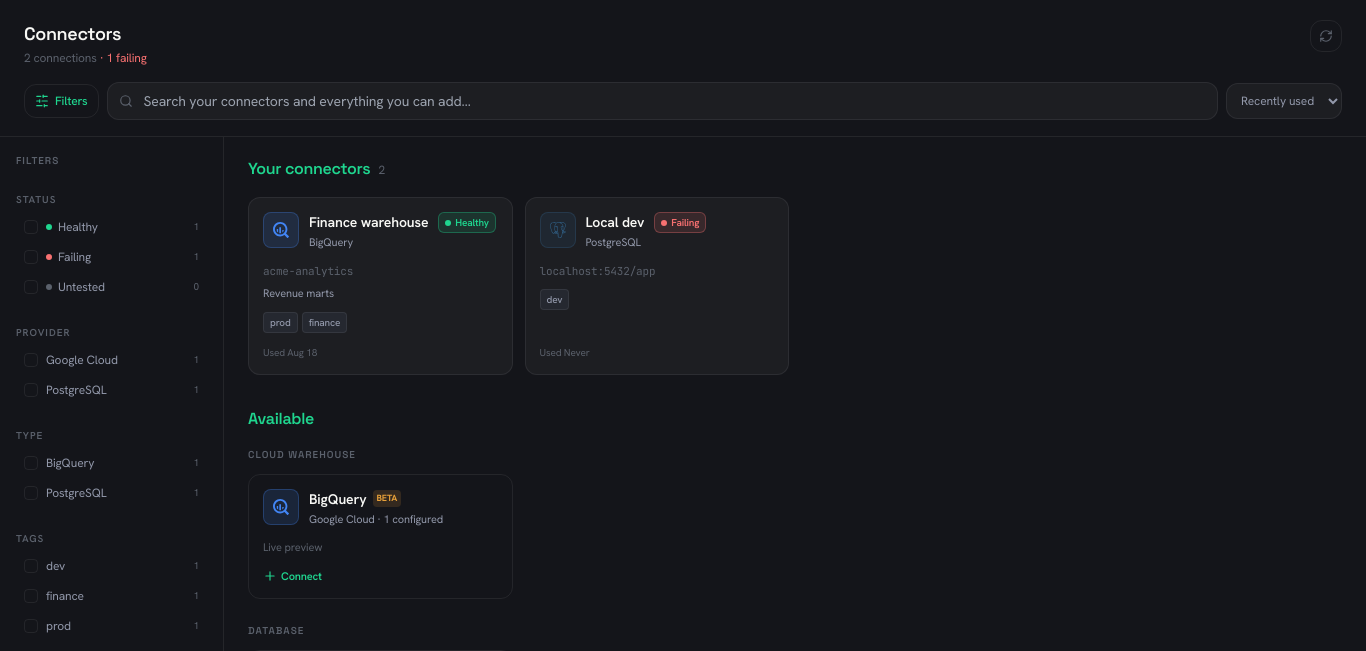
Test case: Connectors page › opens a detail drawer showing the recorded failure reason
The width and height of the screenshot is (1366, 651).
What coordinates should you click on to do the following:
click the button that starts with "Local dev"
I would click on:
 (558, 230)
Its box is [524,197,789,374].
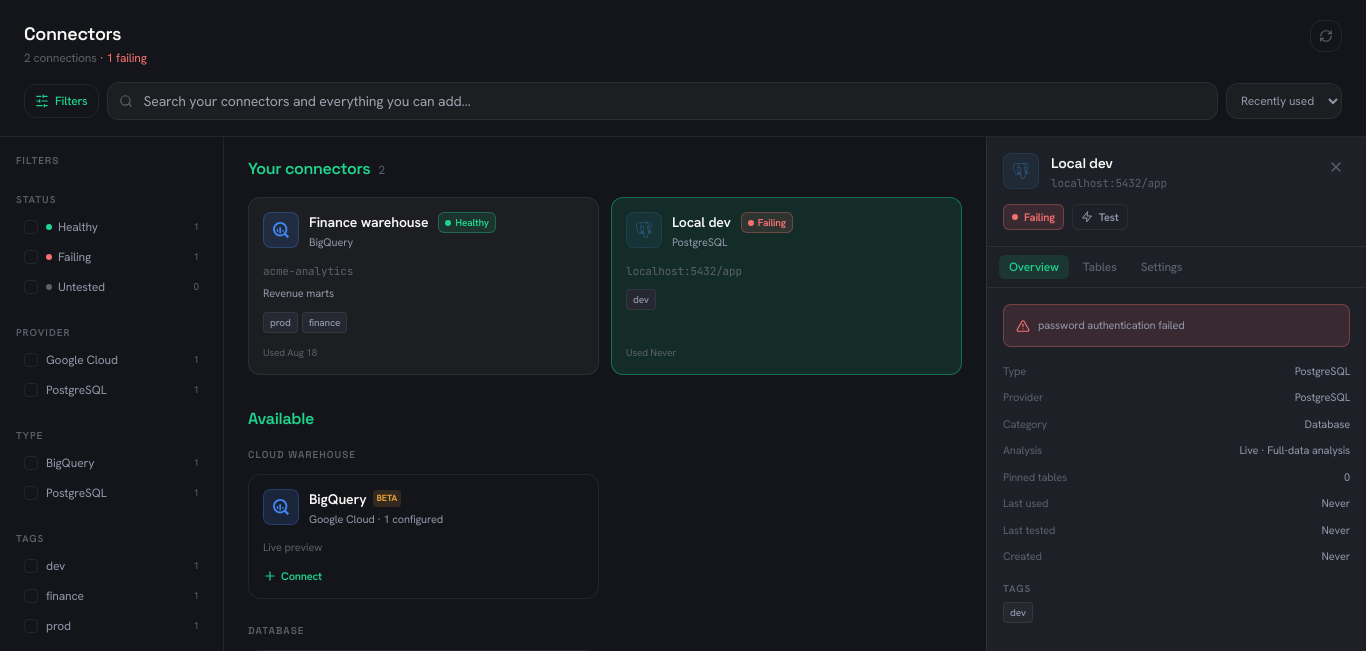
Check: the text "password authentication failed" is shown, box [1038,317,1185,334]
Check: the text "Overview" is shown, box [999,255,1069,279]
Check: the text "Settings" is shown, box [1131,255,1192,279]
